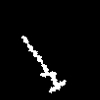double_crochet: (22, 36, 65, 92)
